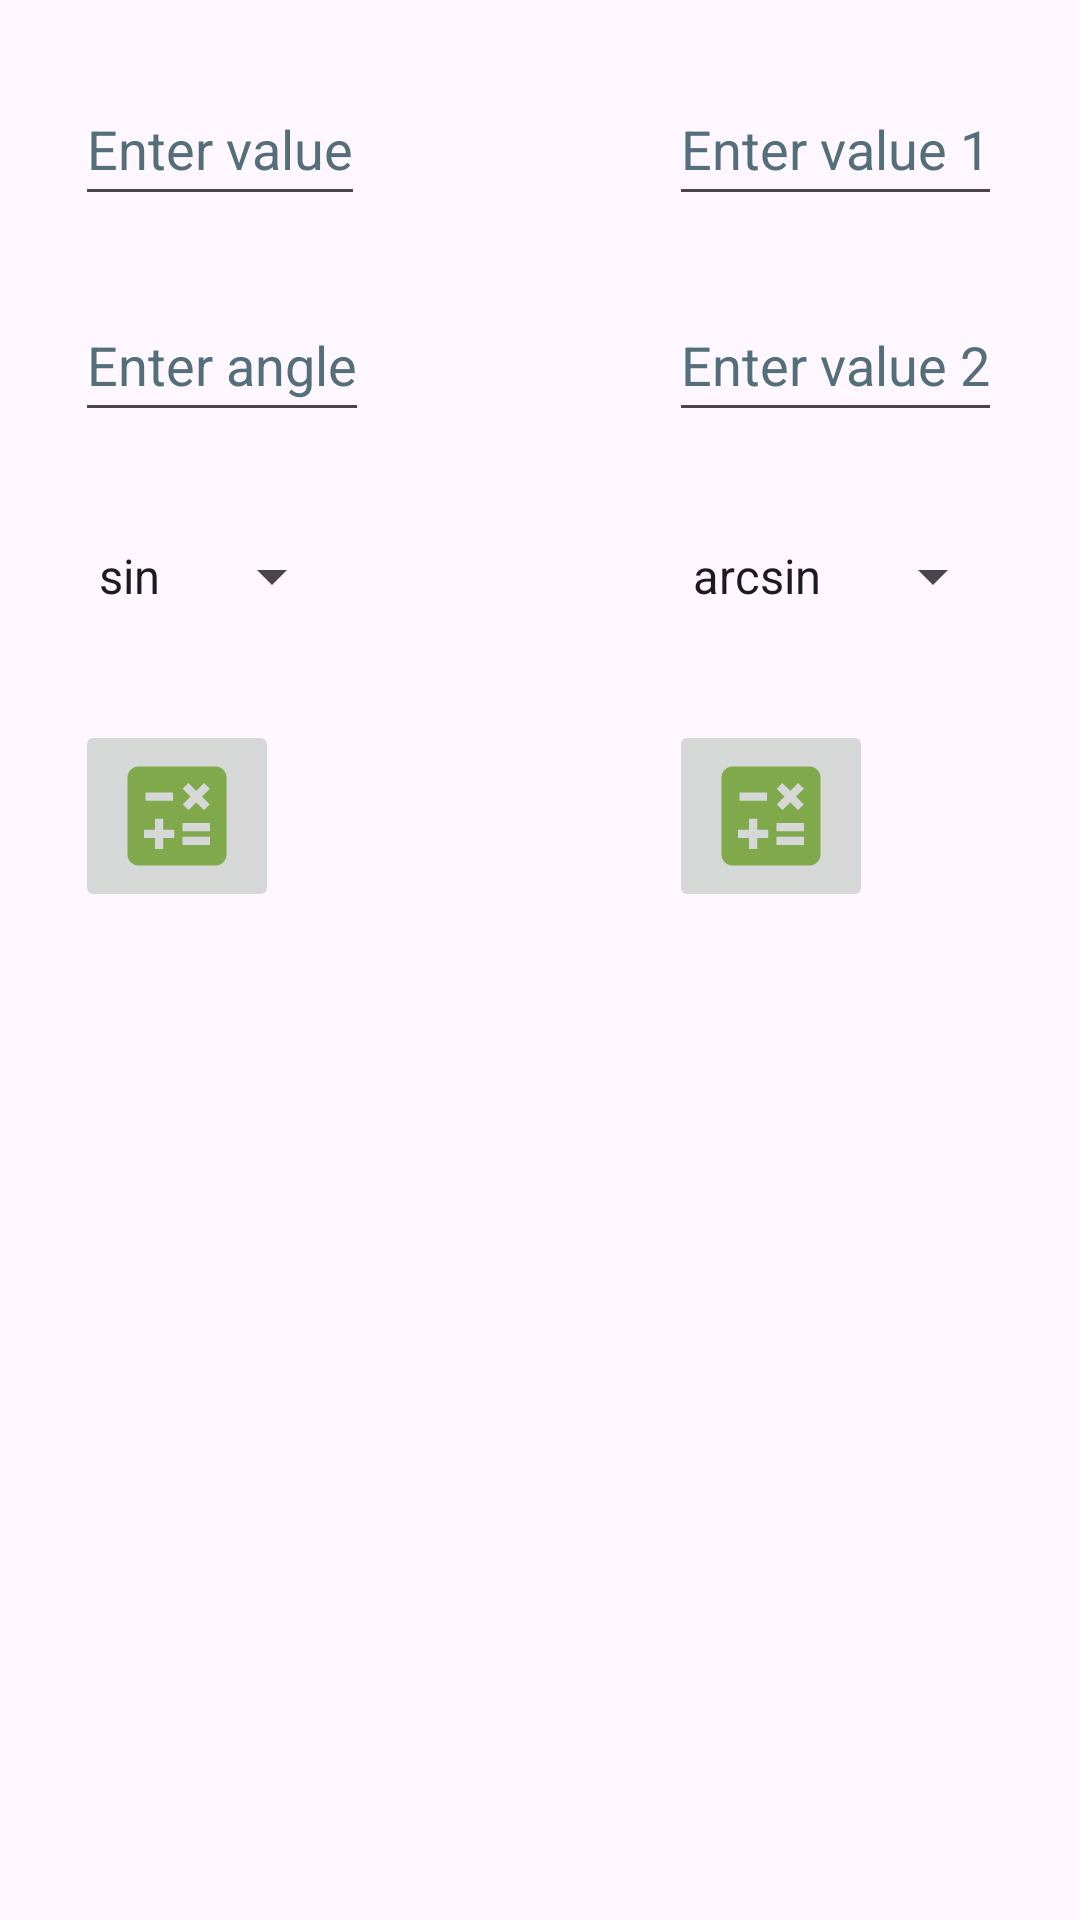

Where to tap for icons on this 1080 x 1920 app screen, as (x=x, y=y):
calculate: (x=177, y=816), (x=771, y=816)
